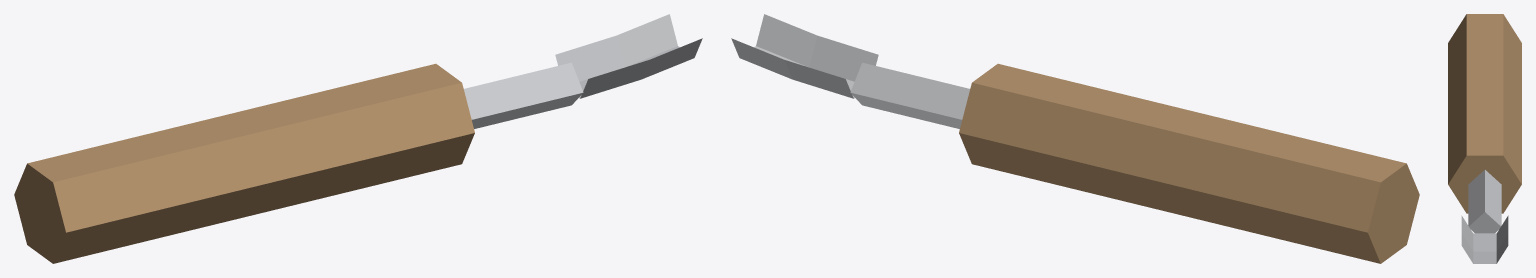
Rendered from prop-carving-gouge-ss1.fbx.
The picture shows the model from 3 angles, left to right: view 1: azimuth 30°, elevation 25°; view 2: azimuth 150°, elevation 25°; view 3: azimuth 270°, elevation 25°; orthographic projection. The views are drawn at different scales.
Visible parts, largest first — view 1: prop-carving-gouge-ss1; view 2: prop-carving-gouge-ss1; view 3: prop-carving-gouge-ss1.
Boxes of the visible parts, left/top/right/bottom form: prop-carving-gouge-ss1: left=14, top=14, right=702, bottom=263; prop-carving-gouge-ss1: left=731, top=14, right=1419, bottom=263; prop-carving-gouge-ss1: left=1448, top=14, right=1521, bottom=263.
Size of the model in its own units: 15.8 by 1.91 by 2.2.
